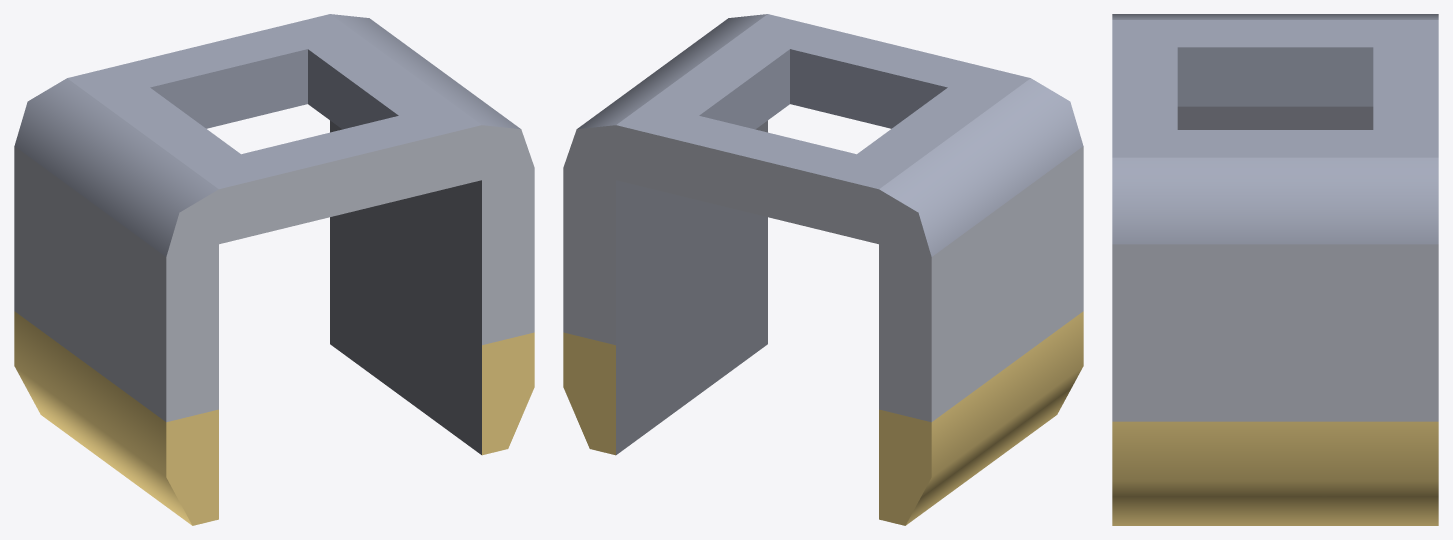
File: cover-stripe-top.fbx
3 views of the same model, side by side, from view 1: azimuth 30°, elevation 25°; view 2: azimuth 150°, elevation 25°; view 3: azimuth 270°, elevation 25° (orthographic). The views are drawn at different scales.
Visible parts, largest first — view 1: cover-stripe-top; view 2: cover-stripe-top; view 3: cover-stripe-top.
Part boxes in pixels (x1,y1,x2,y2): cover-stripe-top: (14, 14, 534, 525); cover-stripe-top: (563, 14, 1083, 525); cover-stripe-top: (1112, 14, 1438, 525).
Bounding box in the file's own units: 140 × 120 × 100.
